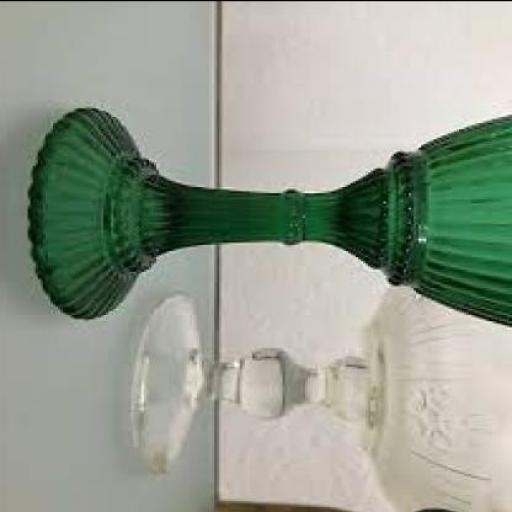glass: (30, 103, 510, 319), (133, 279, 511, 511)
